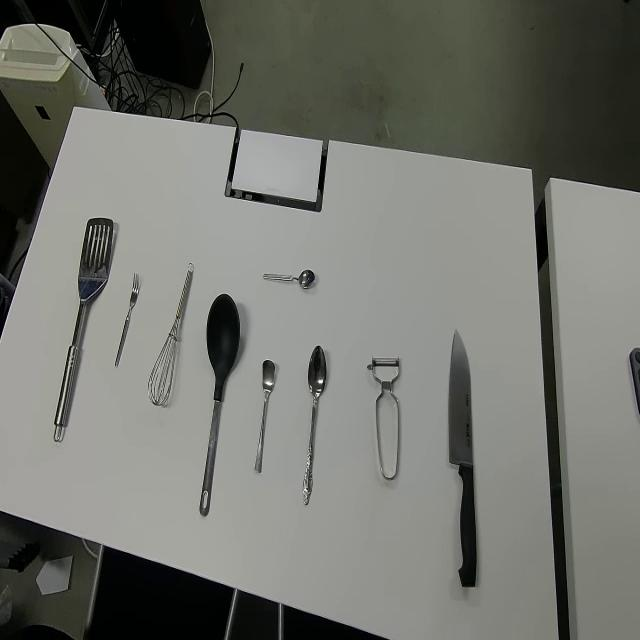Desert-Spoon: (302, 344, 326, 506)
Dinner-Fork: (113, 272, 139, 371)
Kitchen-Knife: (446, 327, 477, 590)
Peeler: (366, 354, 401, 480)
Serving-Spoon: (53, 216, 115, 447), (200, 292, 241, 518)
Tea-Spoon: (255, 358, 276, 473), (262, 266, 316, 290)
Whisk: (147, 261, 194, 408)
